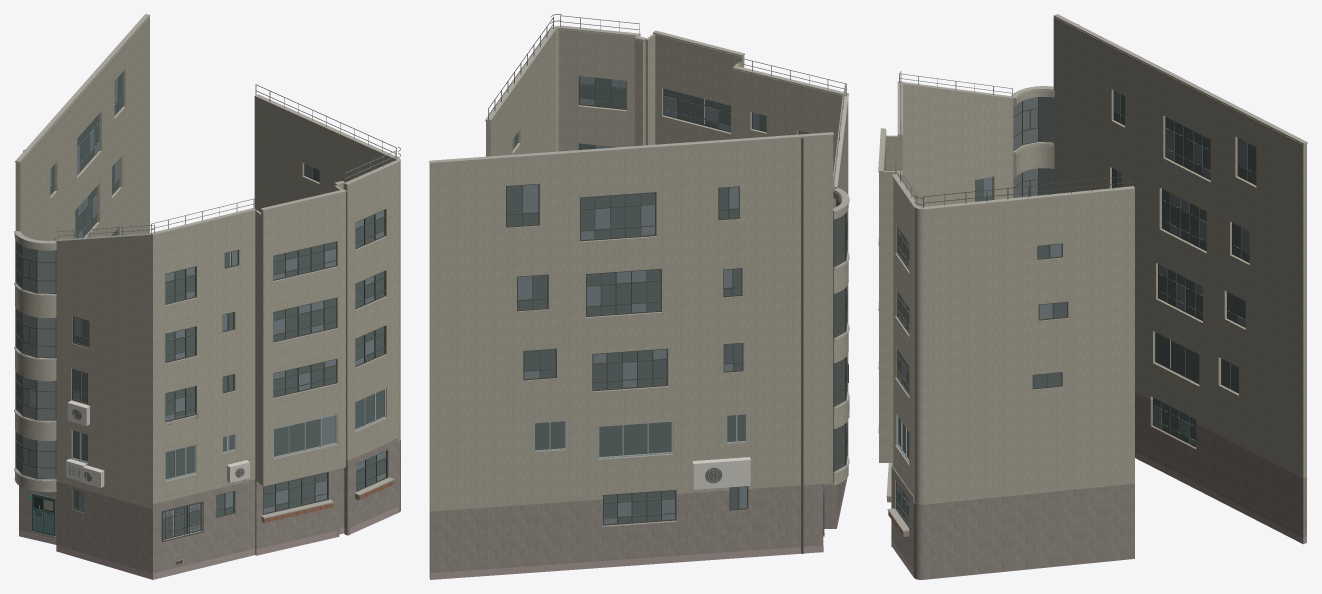
The model's file is full-source.glb.
3 views of the same model, side by side, from view 1: azimuth 30°, elevation 25°; view 2: azimuth 150°, elevation 25°; view 3: azimuth 270°, elevation 25° (orthographic). The views are drawn at different scales.
Parts seen in each view (by area): view 1: 湖南路280弄2号五层住宅临街窗墙与弧窗; view 2: 湖南路280弄2号五层住宅临街窗墙与弧窗; view 3: 湖南路280弄2号五层住宅临街窗墙与弧窗.
Part boxes in pixels (left/top/right/bottom): 湖南路280弄2号五层住宅临街窗墙与弧窗: left=14, top=14, right=400, bottom=579; 湖南路280弄2号五层住宅临街窗墙与弧窗: left=429, top=14, right=849, bottom=579; 湖南路280弄2号五层住宅临街窗墙与弧窗: left=878, top=14, right=1307, bottom=579.
Bounding box in the file's own units: 17.63 × 19.72 × 19.16.
31 materials, 2 textured.
